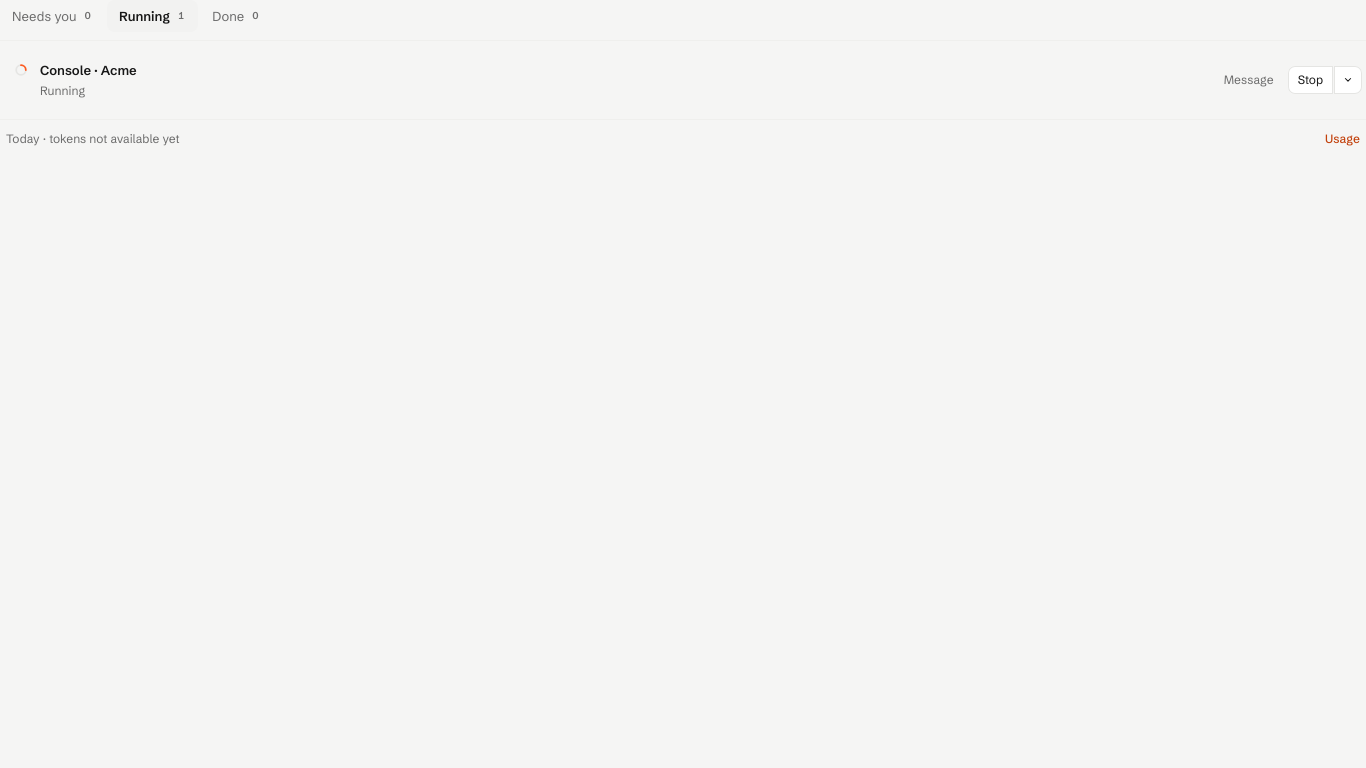
Test case: console message in the Activity center › with live input off the box says live messages are not supported (no queue on the console)
The width and height of the screenshot is (1366, 768).
Click the button "Message" at (1249, 80), box [1214,66,1284,94]
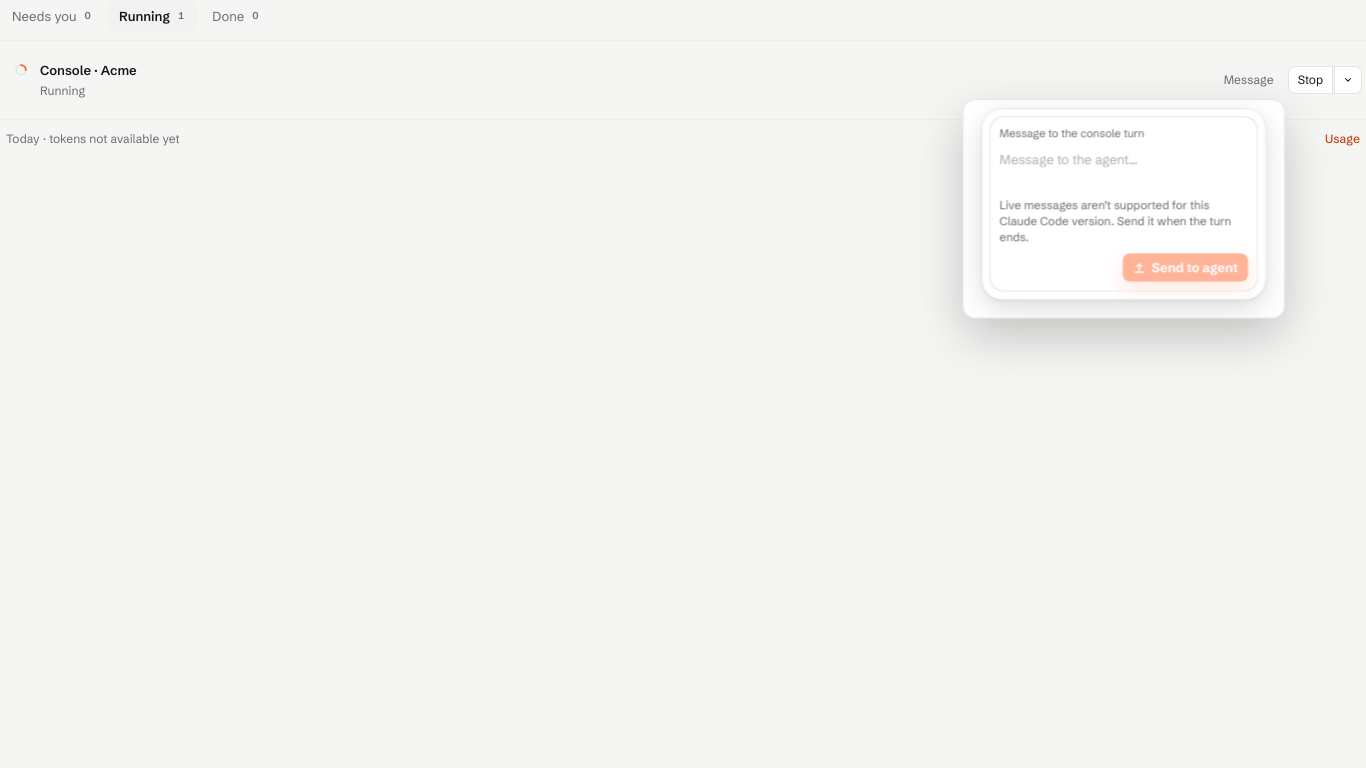
Expected: the text "aren’t supported for this Claude Code version" is shown, [1000,198,1231,244]
